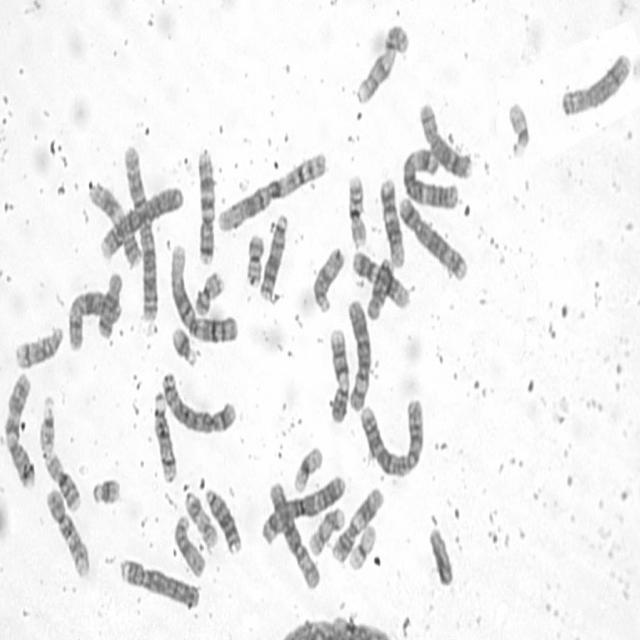A1: (215, 146, 328, 234), (168, 241, 239, 344)
A2: (122, 144, 158, 323), (356, 393, 426, 480)
A3: (259, 472, 347, 546), (399, 144, 460, 210)
B4: (97, 182, 185, 263), (118, 554, 200, 611)
B5: (396, 192, 469, 283), (159, 368, 238, 436)
C10: (43, 484, 91, 579)
C11: (86, 178, 142, 269), (329, 483, 384, 565)
C12: (351, 247, 411, 311), (377, 174, 405, 269)
C6: (266, 477, 322, 591), (344, 296, 372, 413)
C7: (3, 368, 38, 490), (194, 143, 217, 267)
C8: (558, 48, 634, 118), (417, 99, 472, 181)
C9: (354, 20, 411, 106), (326, 325, 350, 424)
D13: (258, 211, 290, 302), (202, 484, 242, 554)
D14: (150, 388, 178, 484), (12, 321, 64, 371)
D15: (310, 244, 346, 314), (172, 512, 206, 578)
E16: (42, 448, 82, 514), (345, 170, 369, 248)
E17: (182, 488, 218, 548), (307, 503, 346, 558)
E18: (94, 268, 124, 339), (366, 256, 394, 322)
F19: (290, 442, 324, 494), (346, 520, 377, 572)
F20: (192, 267, 225, 317), (243, 230, 265, 288)
G21: (170, 324, 199, 368), (88, 472, 123, 507)
G22: (506, 100, 531, 156), (38, 394, 56, 456)
X: (65, 284, 123, 352)
Y: (427, 522, 454, 588)
